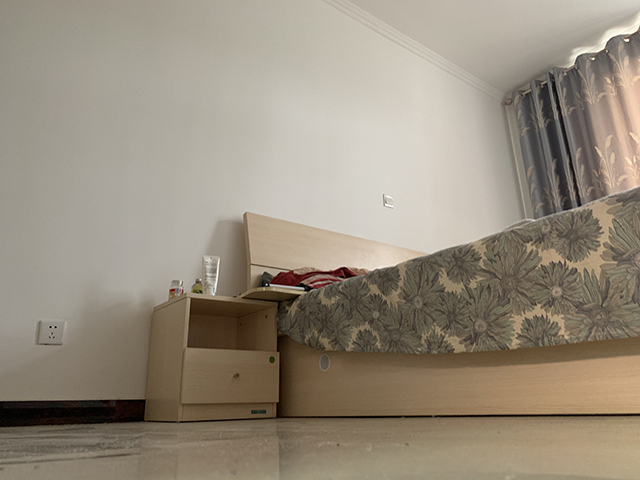bed: (241, 183, 640, 417)
cabinet: (139, 292, 283, 423)
